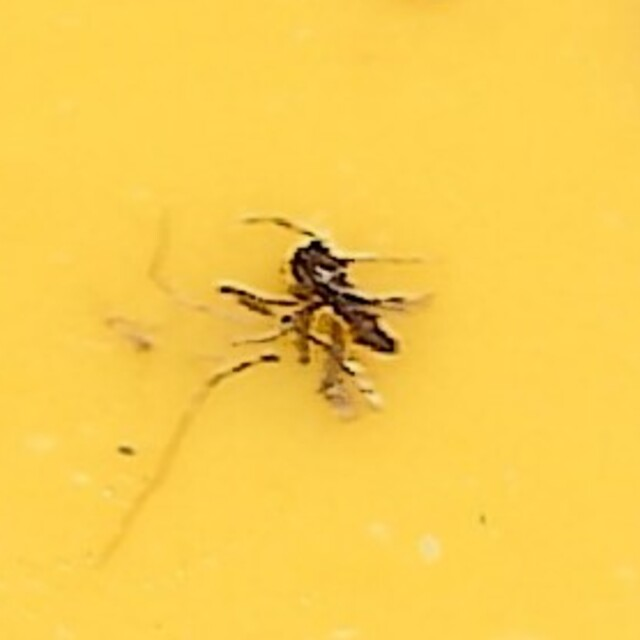Nematocera: (230, 225, 410, 415)
